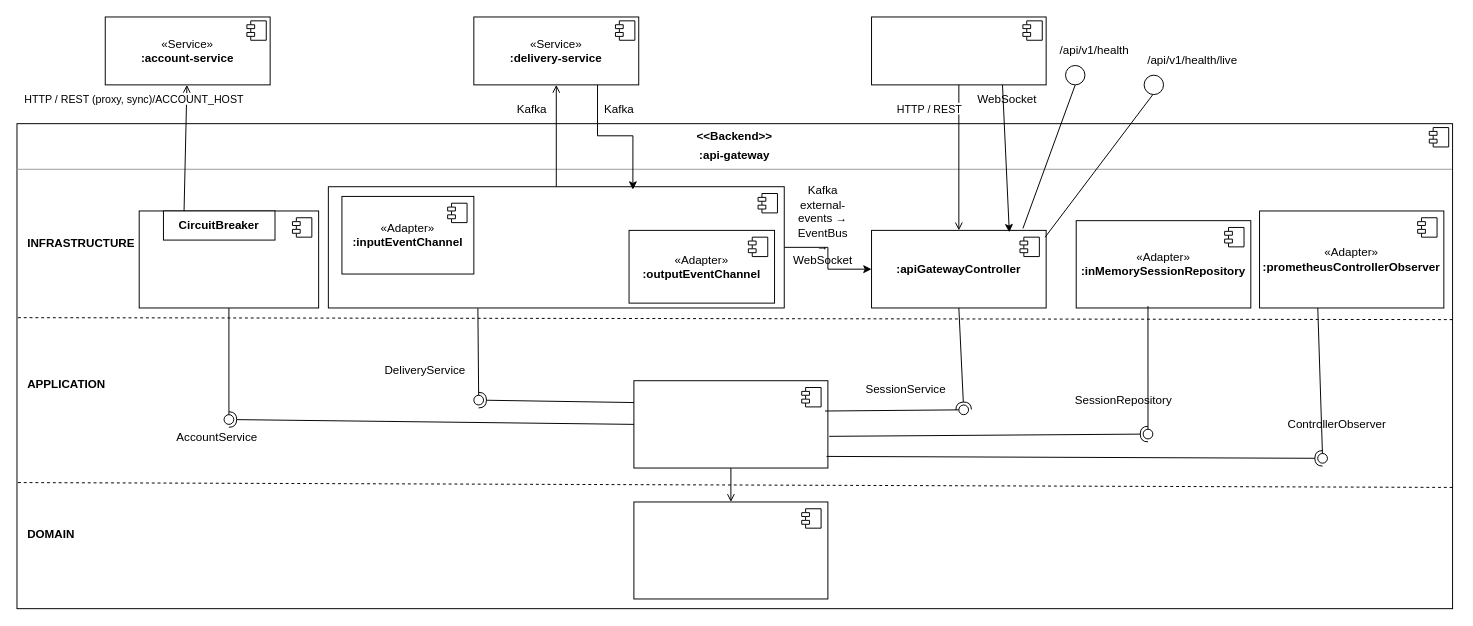
Image size: 1473x626. Some labels were removed from this diagram. The box of each missing label's shape, as (x1, y1, x2, y2) in pixels:
:session: (633, 501, 828, 599)
:sessionServiceImpl: (633, 380, 828, 468)
«Adapter» :accountServiceProxy: (138, 210, 319, 308)
«Adapter» :deliveryServiceProxy: (327, 186, 784, 308)
«Client» :client (Sender/Admin): (871, 16, 1046, 85)
